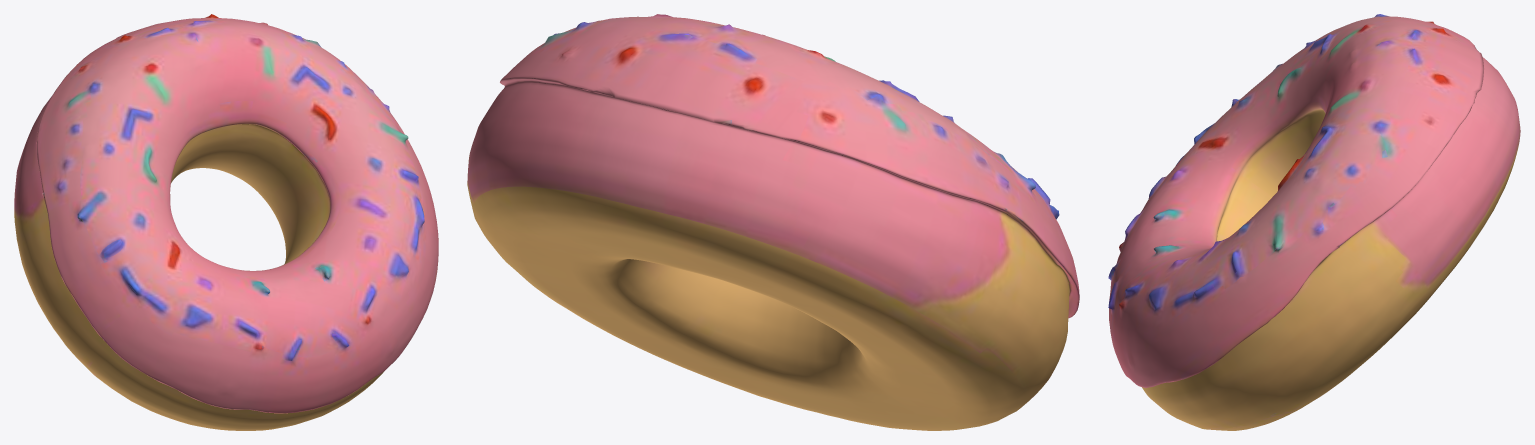
File: sprinkle_donut.glb
3 views of the same model, side by side, from view 1: azimuth 30°, elevation 25°; view 2: azimuth 150°, elevation 25°; view 3: azimuth 270°, elevation 25° (orthographic). The views are drawn at different scales.
Parts seen in each view (by area): view 1: model; view 2: model; view 3: model.
Boxes of the visible parts, box(x1,y1,x2,y2) form: model: box(14, 14, 438, 430); model: box(467, 14, 1079, 430); model: box(1108, 14, 1520, 430).
Bounding box in the file's own units: 1.9 × 1.58 × 1.64.
Materials: 1 (1 with a texture image).
